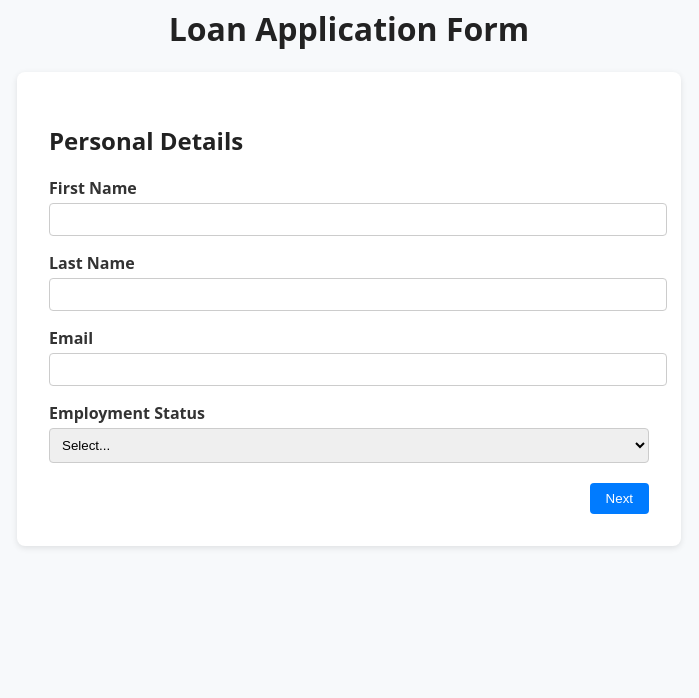
Test: Loan Application Form Validations › shows required field errors on Step 1
Expected: the heading "Personal Details" is shown, [49,124,243,157]
// Click "Next" to trigger validation logic
Click the button "Next" at (620, 499), box [590,483,649,514]
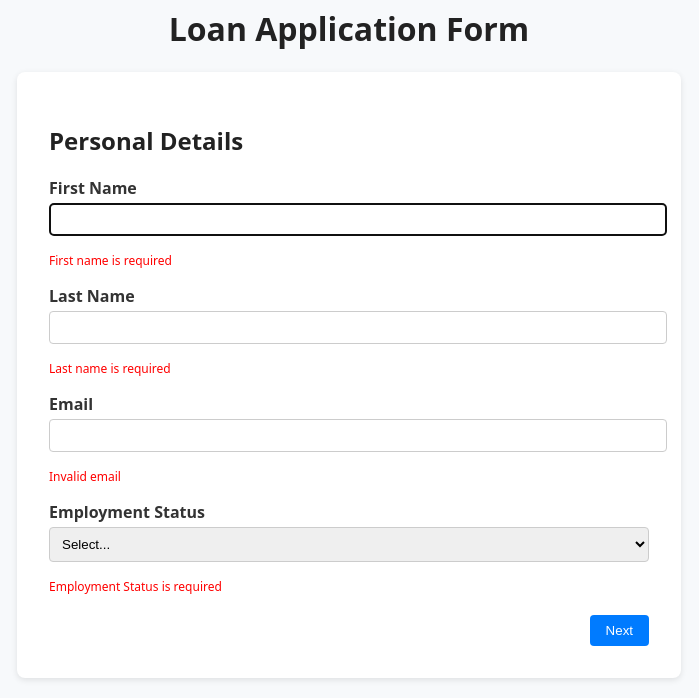
Expected: the text "First name is required" is shown, [49,252,172,269]
Expected: the text "Last name is required" is shown, [49,360,171,377]
Expected: the text "Invalid email" is shown, [49,468,121,485]
